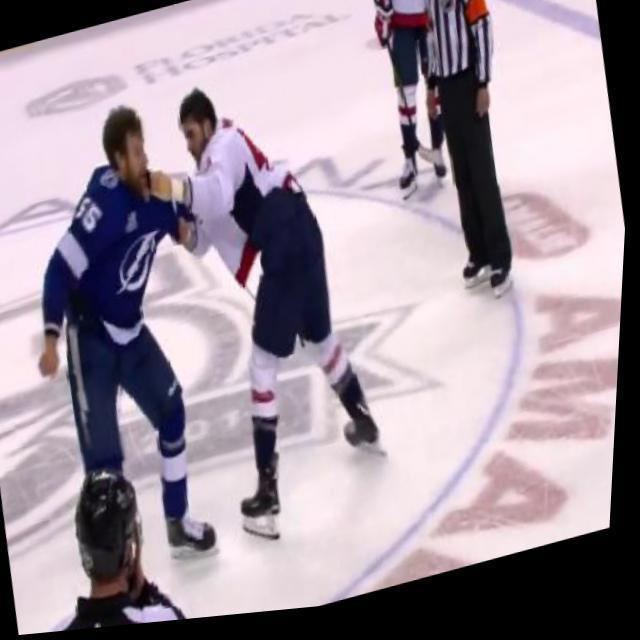fight: (0, 49, 415, 567)
